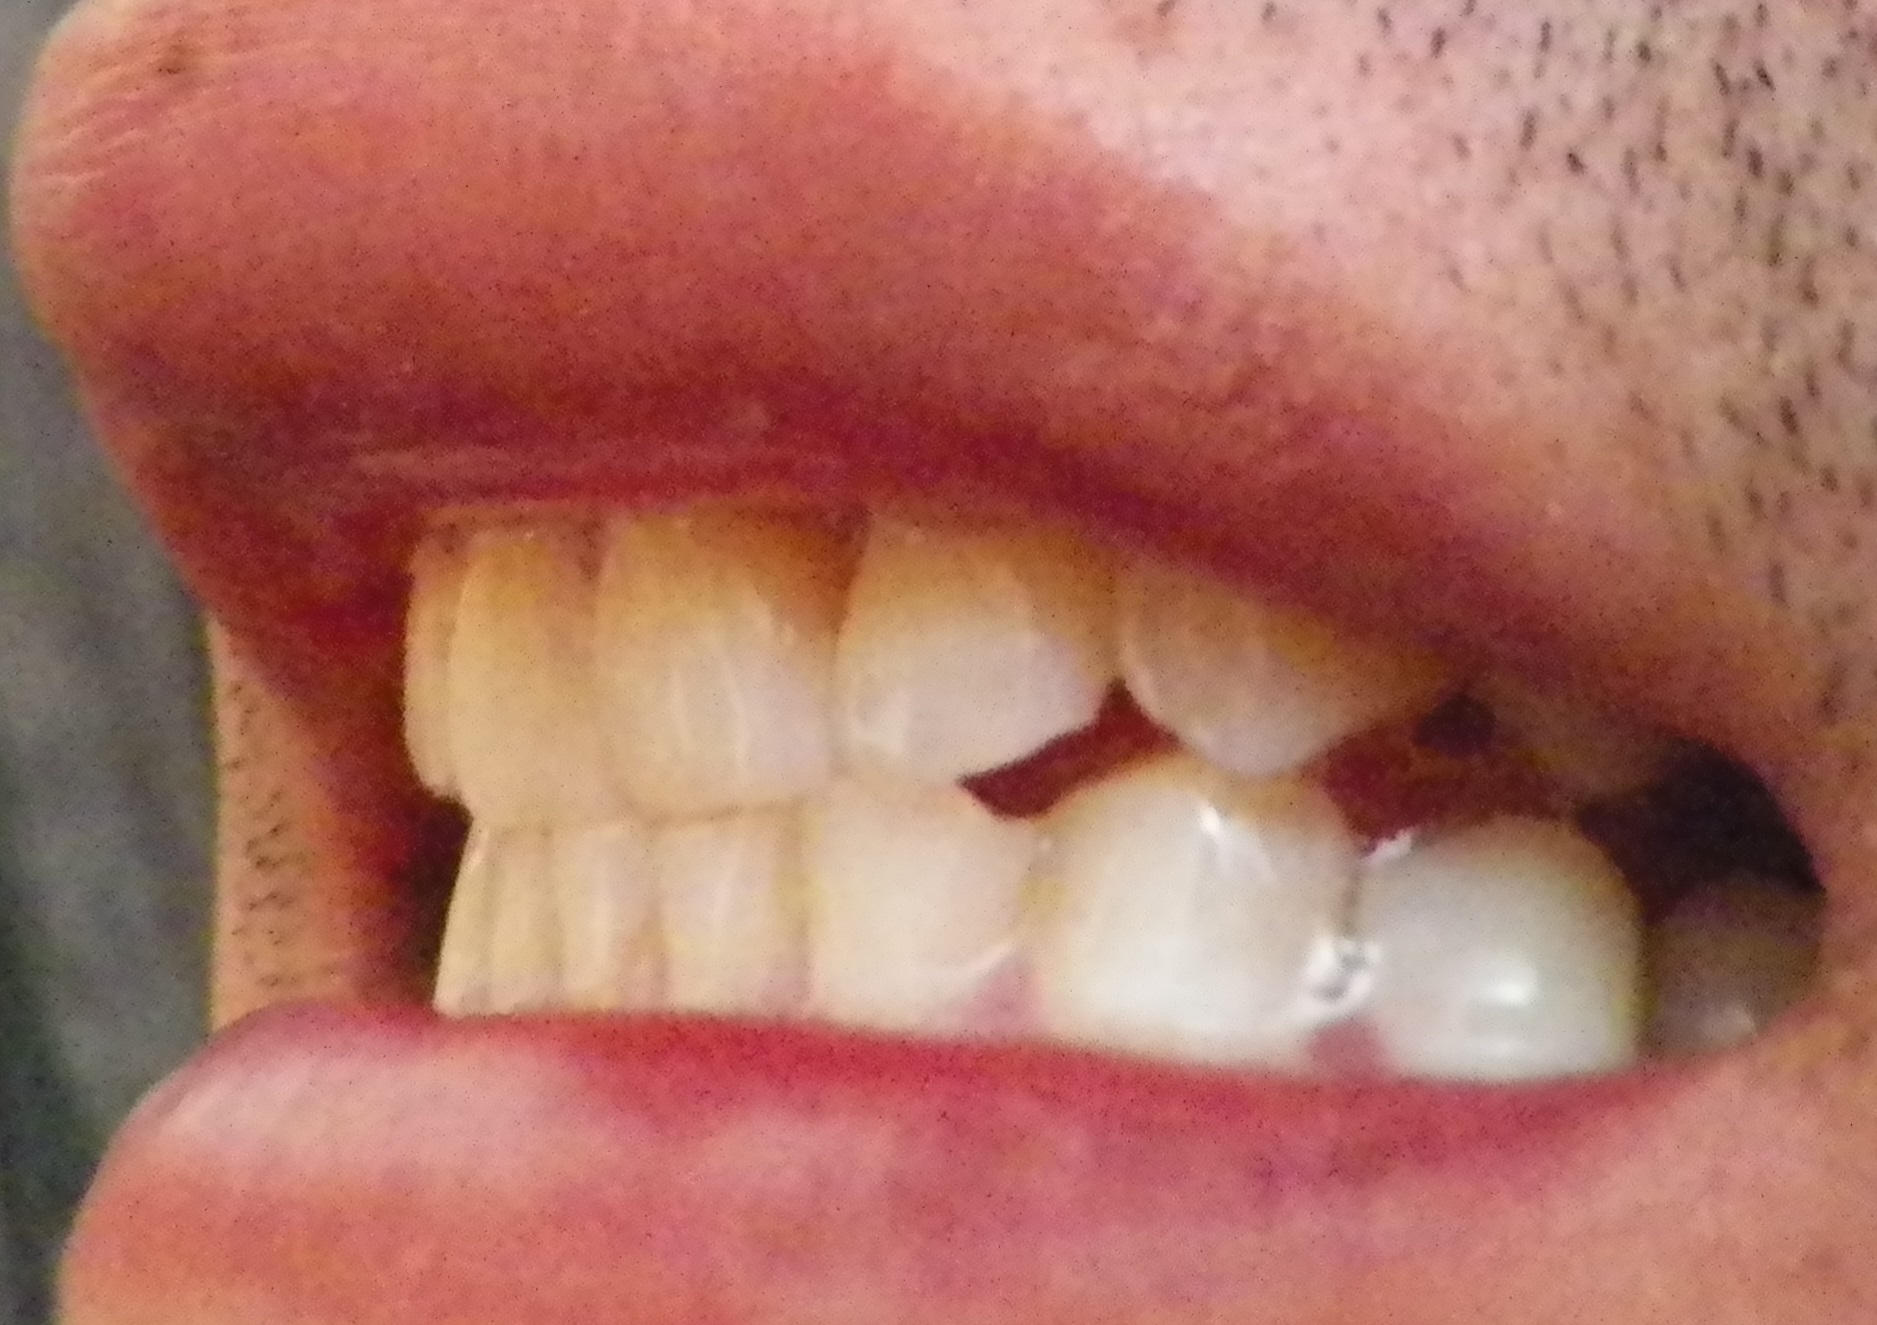boca: (404, 533, 1696, 1067)
